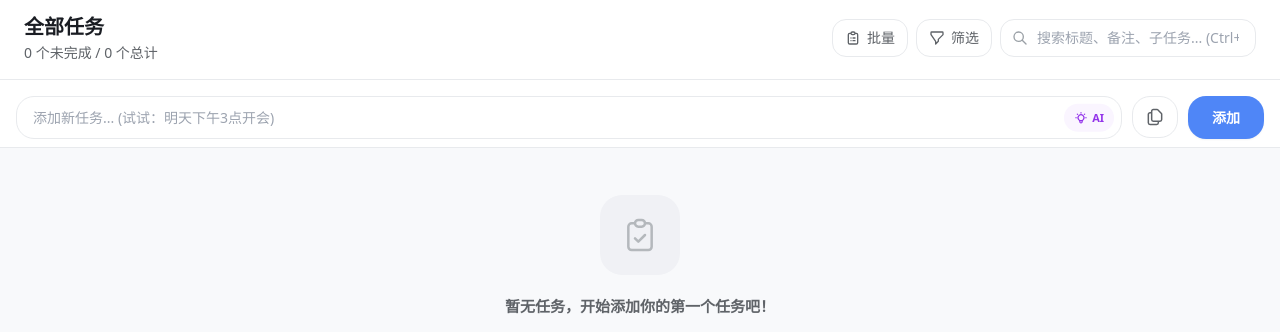
Test case: TaskListPanel 空白区右键菜单 › 右键空白区打开菜单，Escape 关闭
Right-click the element with class "overflow-y-auto" at [640, 255], box left=505, top=195, right=775, bottom=316
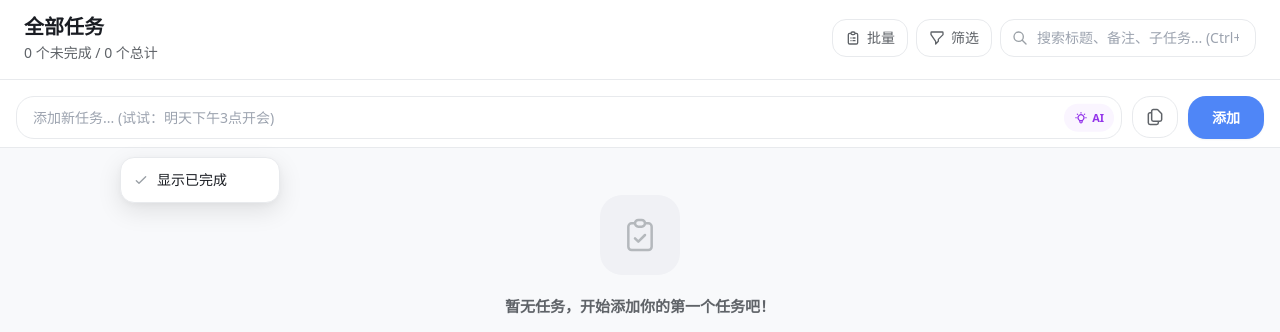
expect the button "显示已完成" is shown: met, box left=121, top=162, right=279, bottom=198
Press Escape
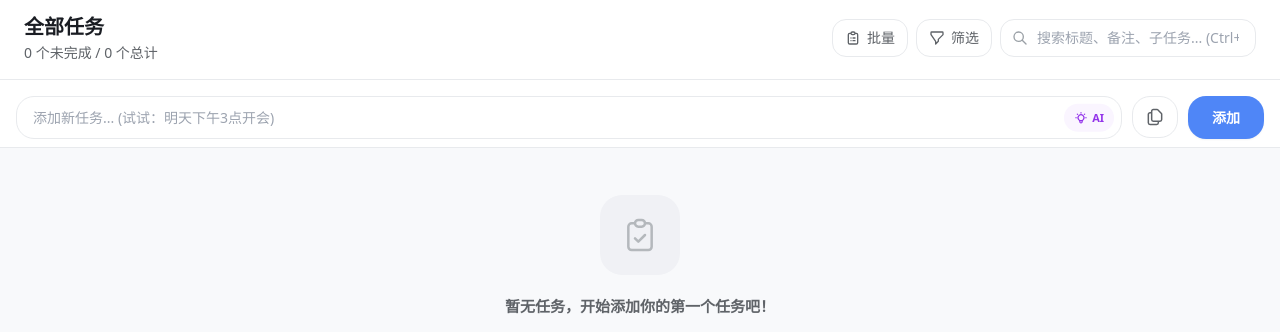
expect the button "显示已完成" is gone: met
